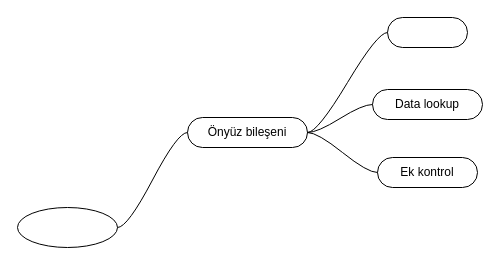
This 500x265 diagram has some shape labels left out. The shapes that lost their labels are listed below. From the top down, each one's centre as x and y in pixels, then its label:
At point 427,32: "Ek alan".
At point 67,227: "Tek ürün".
